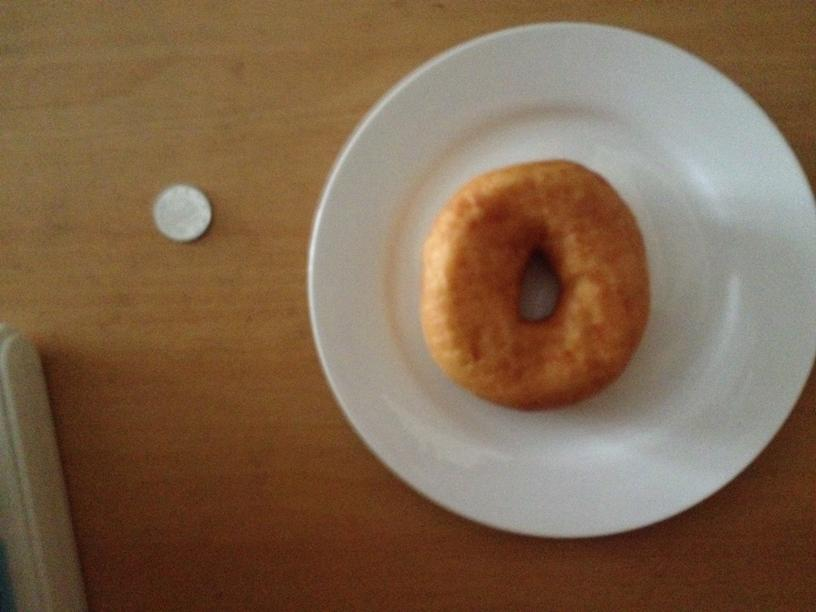coin: (149, 182, 213, 243)
doughnut: (418, 164, 647, 411)
